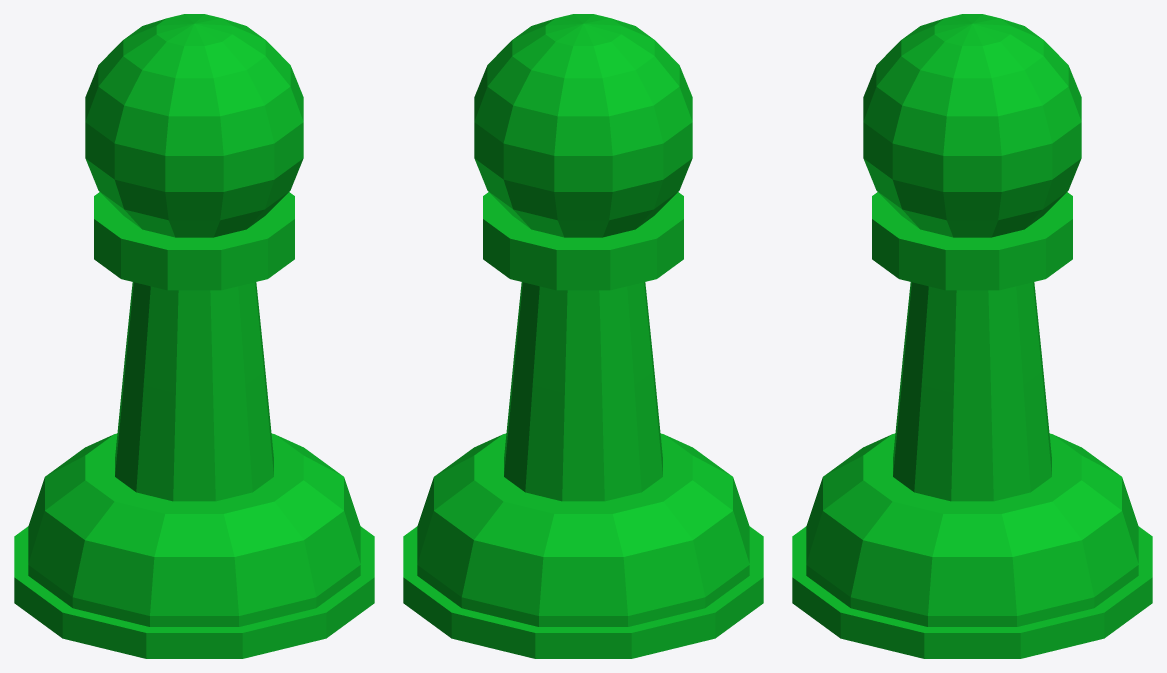
File: green_pown.glb
The picture shows the model from 3 angles, left to right: view 1: azimuth 30°, elevation 25°; view 2: azimuth 150°, elevation 25°; view 3: azimuth 270°, elevation 25°; orthographic projection.
Visible parts, largest first — view 1: bdbbe5d3-7e8a-4ab4-ad6c-9a819e138e8c; view 2: bdbbe5d3-7e8a-4ab4-ad6c-9a819e138e8c; view 3: bdbbe5d3-7e8a-4ab4-ad6c-9a819e138e8c.
Boxes of the visible parts, left/top/right/bottom form: bdbbe5d3-7e8a-4ab4-ad6c-9a819e138e8c: left=14, top=14, right=374, bottom=658; bdbbe5d3-7e8a-4ab4-ad6c-9a819e138e8c: left=403, top=14, right=763, bottom=658; bdbbe5d3-7e8a-4ab4-ad6c-9a819e138e8c: left=792, top=14, right=1152, bottom=658.
Size of the model in its own units: 0.1256 by 0.215 by 0.1256.
